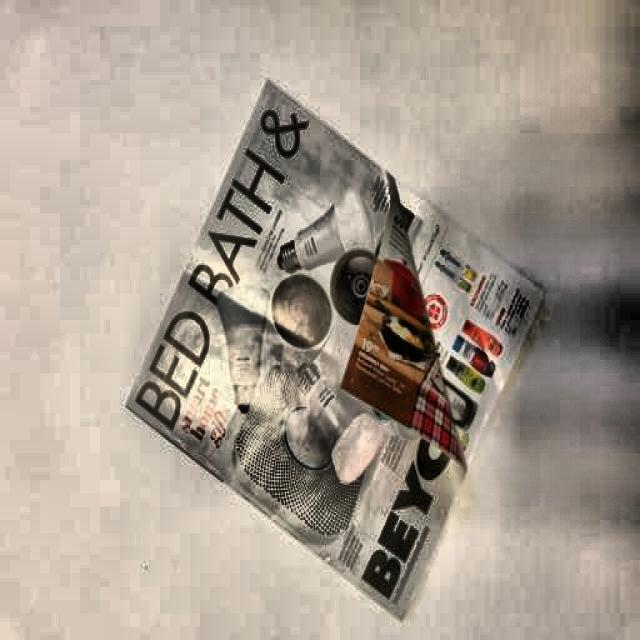paper: (126, 80, 550, 611)
